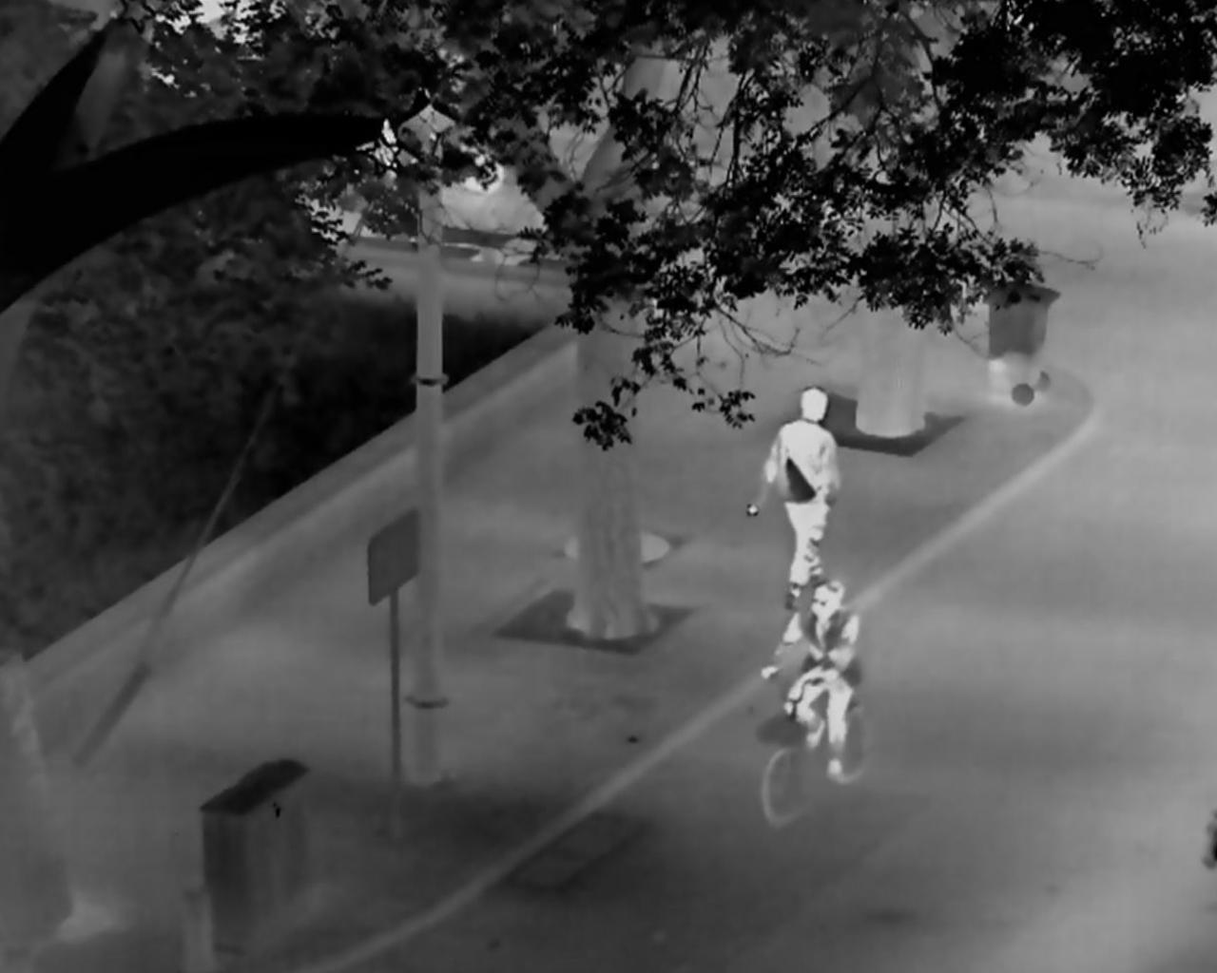person: (746, 385, 841, 609), (763, 579, 860, 779)
